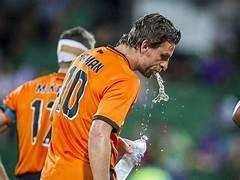Spitting: (113, 9, 181, 92)
